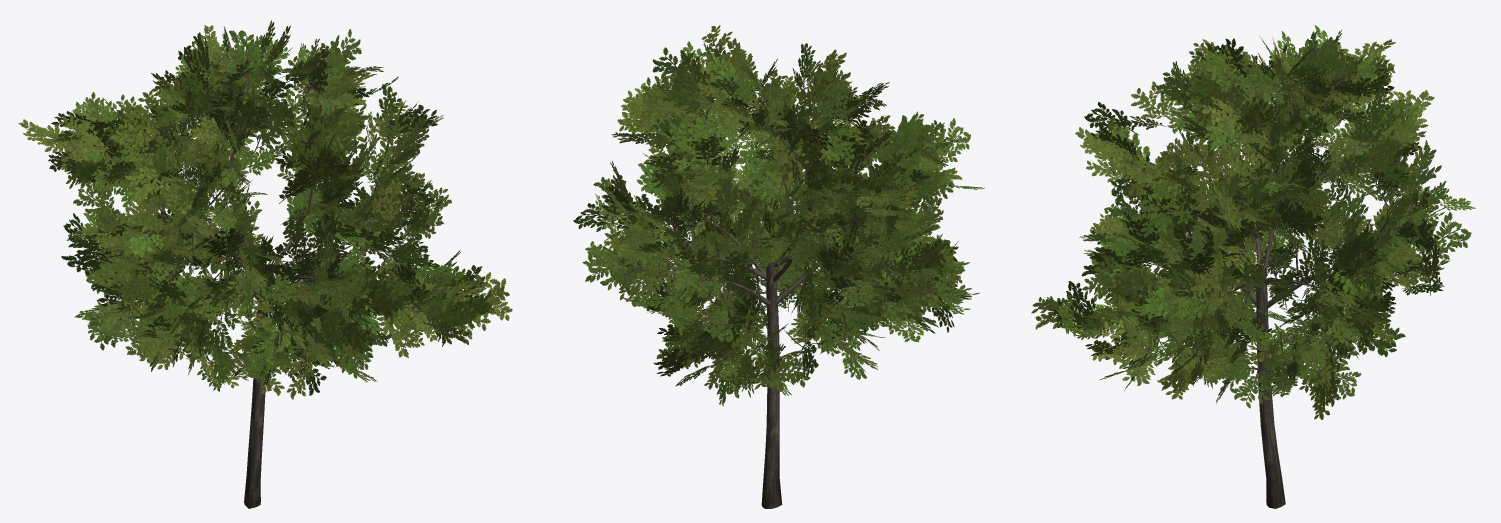
File: dub_mlady.glb
3 views of the same model, side by side, from view 1: azimuth 30°, elevation 25°; view 2: azimuth 150°, elevation 25°; view 3: azimuth 270°, elevation 25° (orthographic). The views are drawn at different scales.
Parts seen in each view (by area): view 1: dub_mlady; view 2: dub_mlady; view 3: dub_mlady.
Boxes of the visible parts, x1,y1,x2,y2 form: dub_mlady: [18, 20, 512, 508]; dub_mlady: [573, 25, 984, 508]; dub_mlady: [1031, 25, 1475, 508].
Bounding box in the file's own units: 6.68 × 7.6 × 6.72.
Materials: 2 (2 with a texture image).
